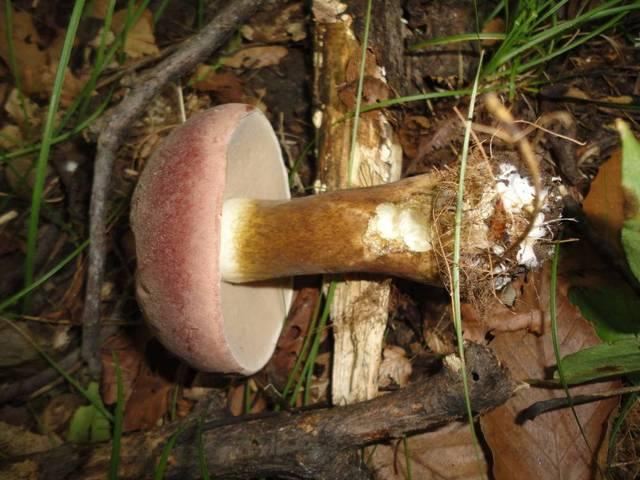Non-edible Mushroom: (127, 100, 570, 368)
